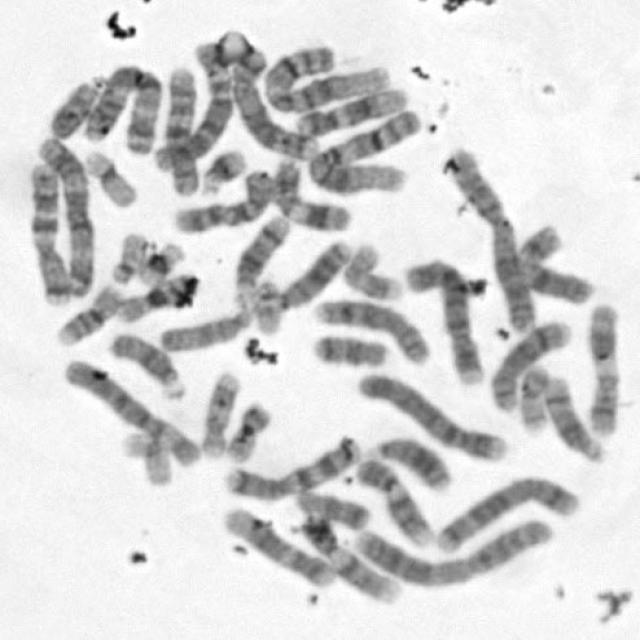A1: (304, 101, 424, 197), (257, 39, 395, 115)
A2: (441, 140, 542, 336), (343, 508, 561, 590)
A3: (31, 130, 100, 300), (78, 56, 166, 158)
B4: (352, 365, 512, 464), (398, 249, 488, 386)
B5: (430, 467, 584, 555), (222, 42, 325, 160)
C10: (166, 163, 278, 236), (161, 61, 202, 198)
C11: (266, 152, 354, 232), (579, 296, 625, 440)
C12: (216, 498, 337, 590), (290, 79, 413, 139)
C6: (59, 351, 208, 470), (150, 38, 238, 174)
C7: (219, 428, 364, 502), (21, 155, 72, 307)
C8: (483, 311, 577, 414), (307, 292, 433, 367)
C9: (293, 510, 404, 606), (352, 451, 440, 548)
D13: (267, 232, 355, 312), (363, 428, 456, 493)
D14: (538, 368, 610, 466), (228, 207, 293, 304)
D15: (104, 326, 189, 401), (155, 301, 258, 354)
E16: (110, 266, 202, 326), (52, 278, 127, 347)
E17: (338, 236, 407, 303), (196, 365, 243, 461)
E18: (289, 481, 373, 531), (307, 326, 393, 370)
F19: (79, 143, 141, 210), (115, 423, 176, 488)
F20: (218, 394, 274, 463), (513, 360, 552, 434)
G21: (193, 140, 250, 197), (131, 236, 188, 287)
G22: (105, 225, 152, 285), (249, 272, 285, 336)
X: (512, 217, 598, 306)
Y: (43, 75, 102, 140)
